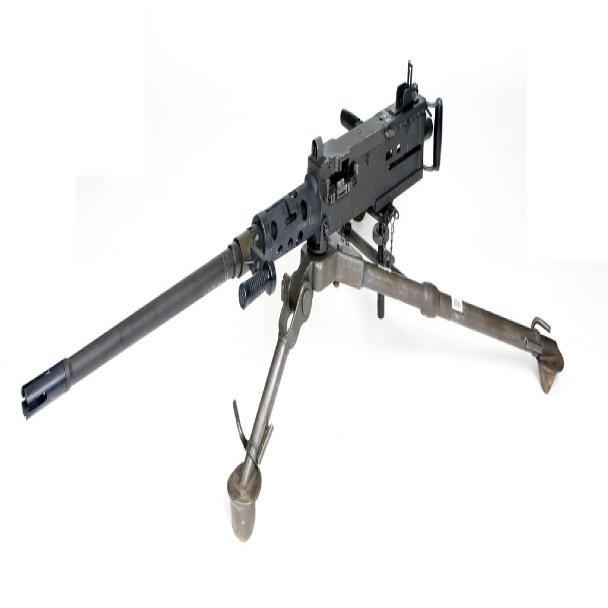Gun: (19, 52, 566, 543)
